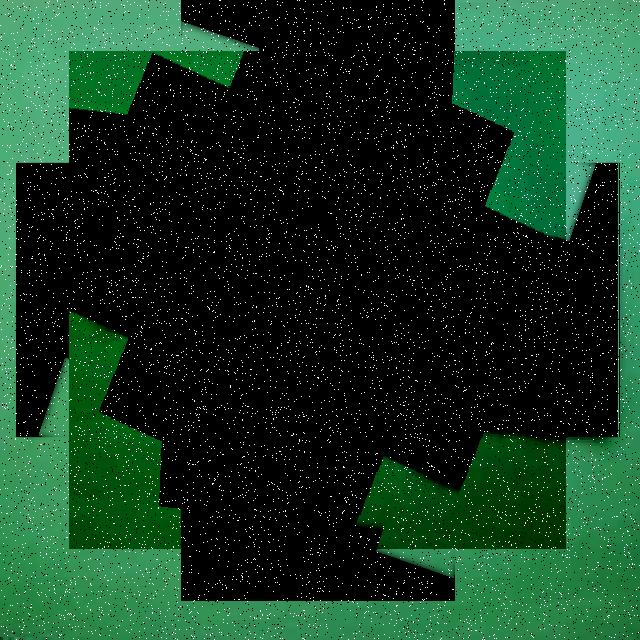lima puluh ribu rupiah: (69, 51, 566, 549)
